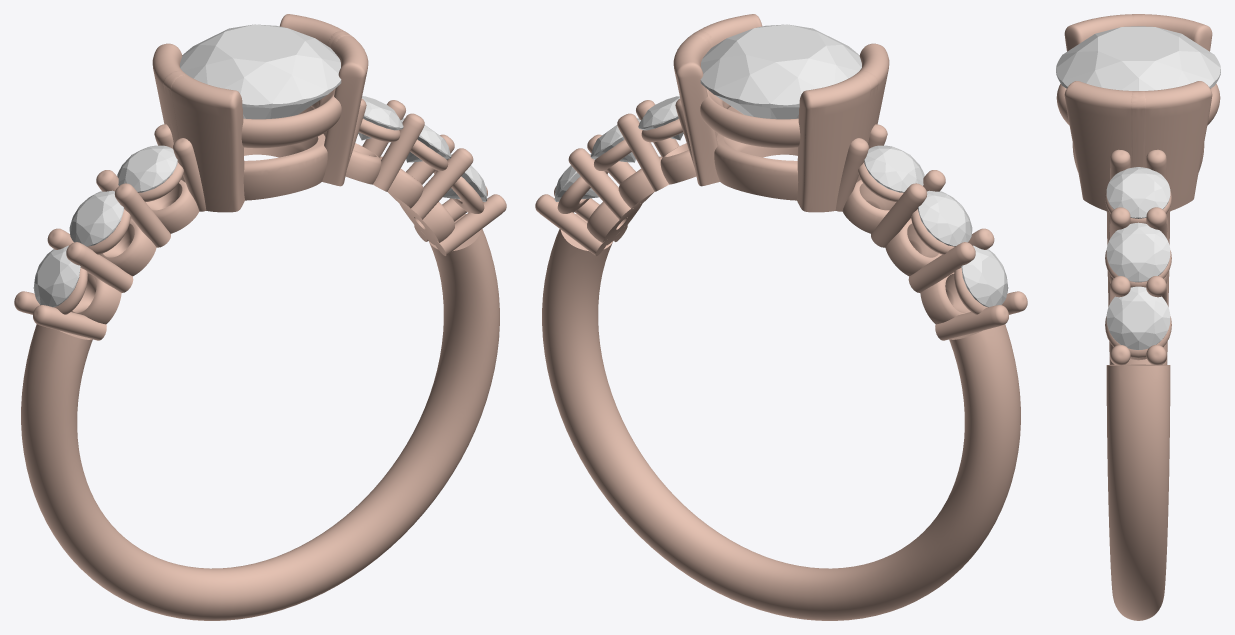
File: diamond-round-rosegold-halfmoonbezel-taperedband-3stone.glb
3 views of the same model, side by side, from view 1: azimuth 30°, elevation 25°; view 2: azimuth 150°, elevation 25°; view 3: azimuth 270°, elevation 25° (orthographic). The views are drawn at different scales.
Parts seen in each view (by area): view 1: metal, stone, side.001, side, side.002, side.003, side.004; view 2: metal, stone, side.001, side, side.002, side.003, side.004; view 3: metal, stone, side.005, side.004, side.003.
Boxes of the visible parts, bbox=[...] form: metal: bbox=[14, 14, 506, 620]; stone: bbox=[180, 24, 341, 119]; side.001: bbox=[69, 190, 123, 246]; side: bbox=[117, 145, 177, 192]; side.002: bbox=[33, 245, 80, 307]; side.003: bbox=[358, 96, 403, 140]; side.004: bbox=[401, 118, 451, 162]; metal: bbox=[535, 14, 1027, 620]; stone: bbox=[700, 24, 861, 119]; side.001: bbox=[918, 190, 972, 246]; side: bbox=[864, 145, 924, 192]; side.002: bbox=[961, 245, 1008, 307]; side.003: bbox=[638, 96, 683, 140]; side.004: bbox=[590, 118, 640, 162]; metal: bbox=[1056, 14, 1220, 620]; stone: bbox=[1056, 26, 1220, 90]; side.005: bbox=[1106, 286, 1170, 349]; side.004: bbox=[1106, 222, 1170, 282]; side.003: bbox=[1106, 167, 1170, 218].
Size of the model in its own units: 20.58 by 23.81 by 6.44.
